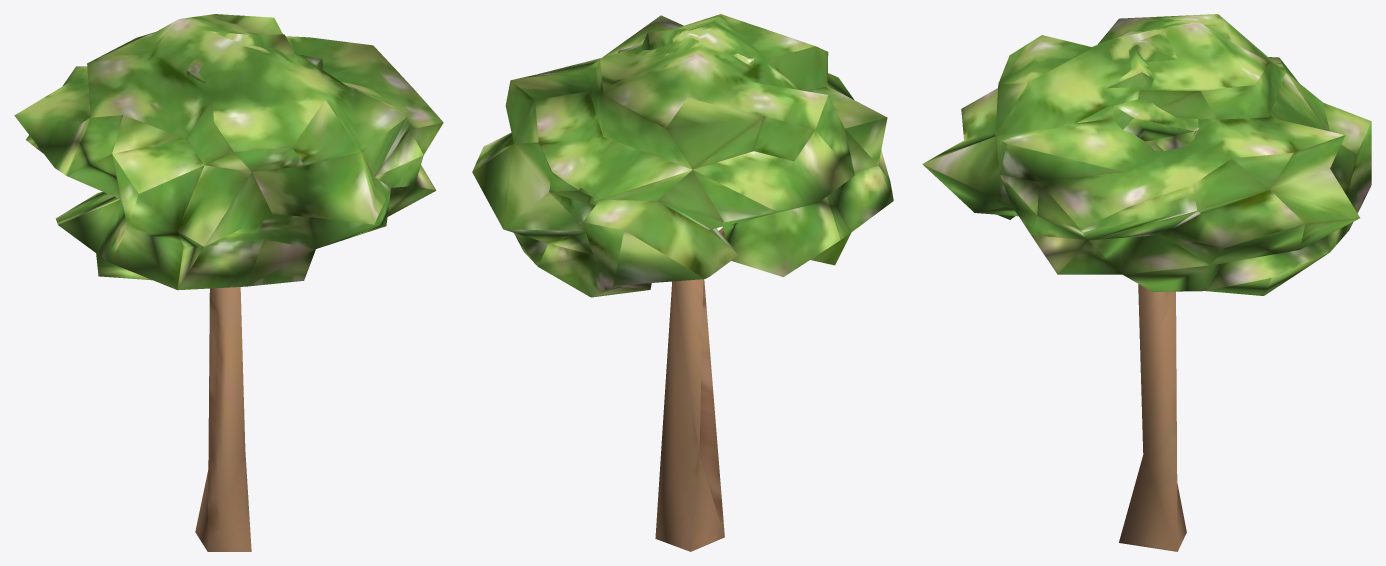
Rendered from tree_round_b_far.glb.
3 renders of one model, left to right at view 1: azimuth 30°, elevation 25°; view 2: azimuth 150°, elevation 25°; view 3: azimuth 270°, elevation 25°, orthographic. The views are drawn at different scales.
Parts seen in each view (by area): view 1: body; view 2: body; view 3: body.
Boxes of the visible parts, <box> form: body: <box>14,14,443,551</box>; body: <box>472,14,893,551</box>; body: <box>922,14,1371,551</box>.
Bounding box in the file's own units: 3.06 × 4.36 × 3.52.
Materials: 2 (2 with a texture image).
